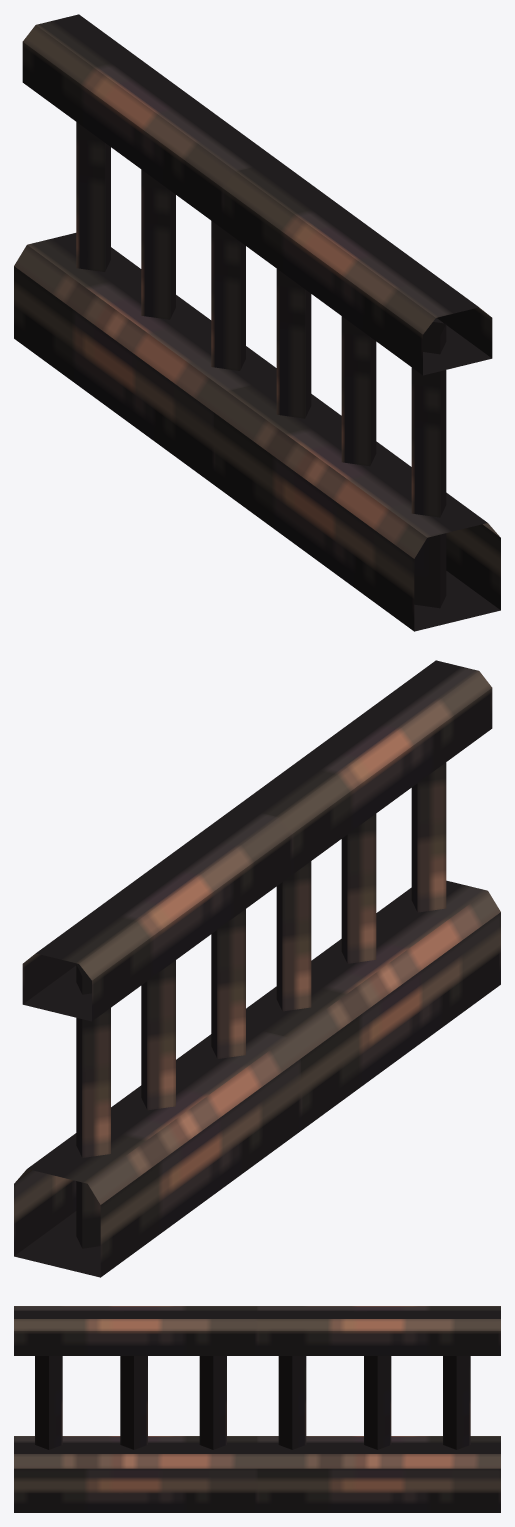
The model's file is EnvBdgMD_Factory_B_Fenece_A_Loop_200W.FBX.
3 renders of one model, top to bottom at view 1: azimuth 30°, elevation 25°; view 2: azimuth 150°, elevation 25°; view 3: azimuth 270°, elevation 25°, orthographic. The views are drawn at different scales.
Parts seen in each view (by area): view 1: EnvBdgMD_Factory_B_Fenece_A_Loop_200W; view 2: EnvBdgMD_Factory_B_Fenece_A_Loop_200W; view 3: EnvBdgMD_Factory_B_Fenece_A_Loop_200W.
Boxes of the visible parts, bbox=[...] form: EnvBdgMD_Factory_B_Fenece_A_Loop_200W: bbox=[14, 14, 500, 631]; EnvBdgMD_Factory_B_Fenece_A_Loop_200W: bbox=[14, 660, 500, 1277]; EnvBdgMD_Factory_B_Fenece_A_Loop_200W: bbox=[14, 1306, 500, 1512].
Size of the model in its own units: 25 by 85 by 200.
